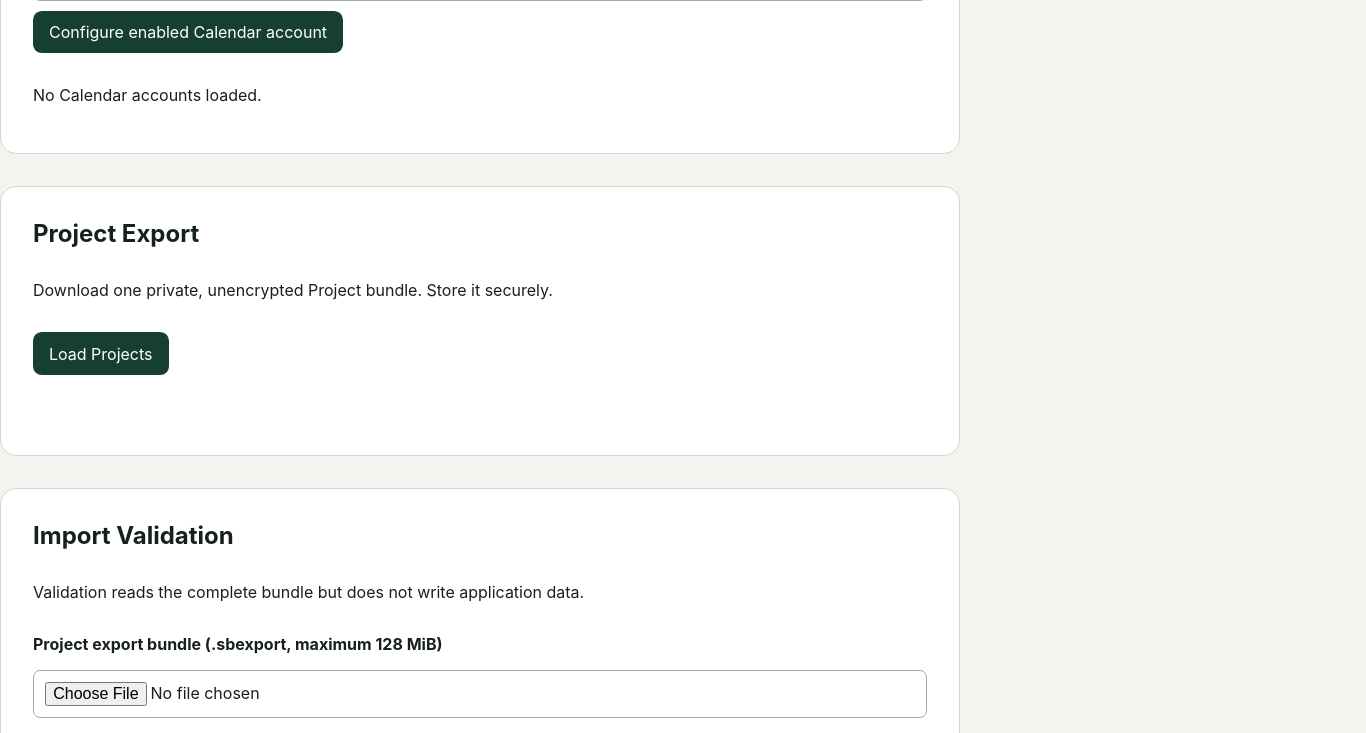
Test: settings operations dashboard › loads a Project page and exports only after an explicit action with safe URL cleanup
(page scrolled)
Click the button "Load Projects".
click(101, 354)  # box [33,332,168,375]
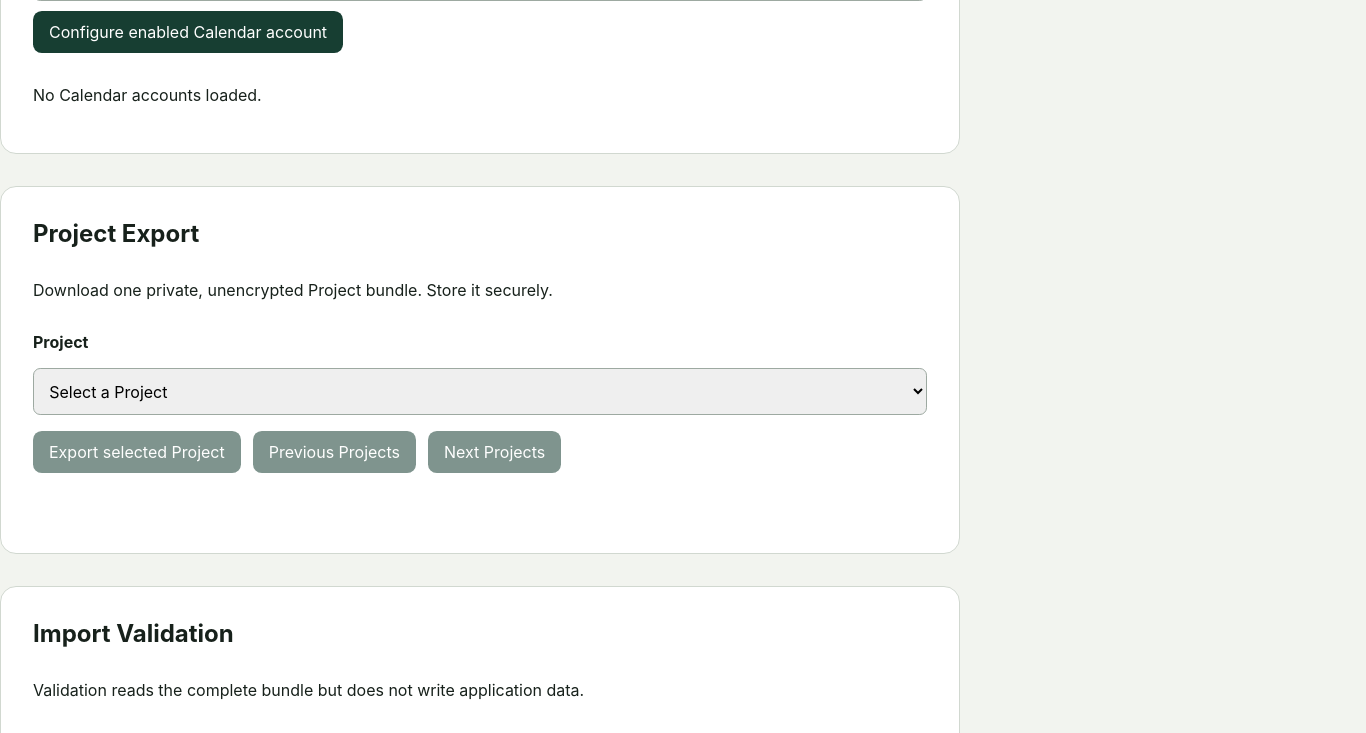
Select "Safe Project" in the dropdown labelled "Project" at (480, 392), box [33,368,927,415]
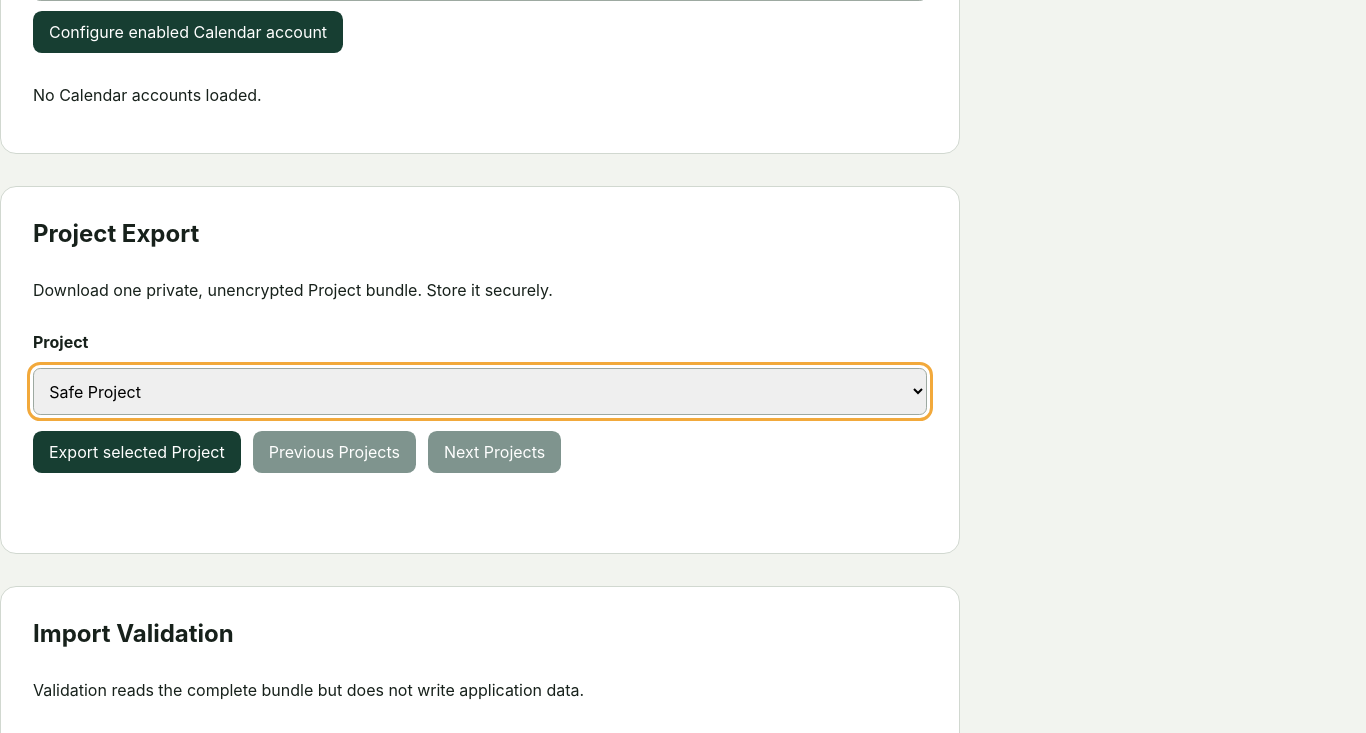
Click the button "Export selected Project".
click(137, 452)  # box [33,431,241,473]
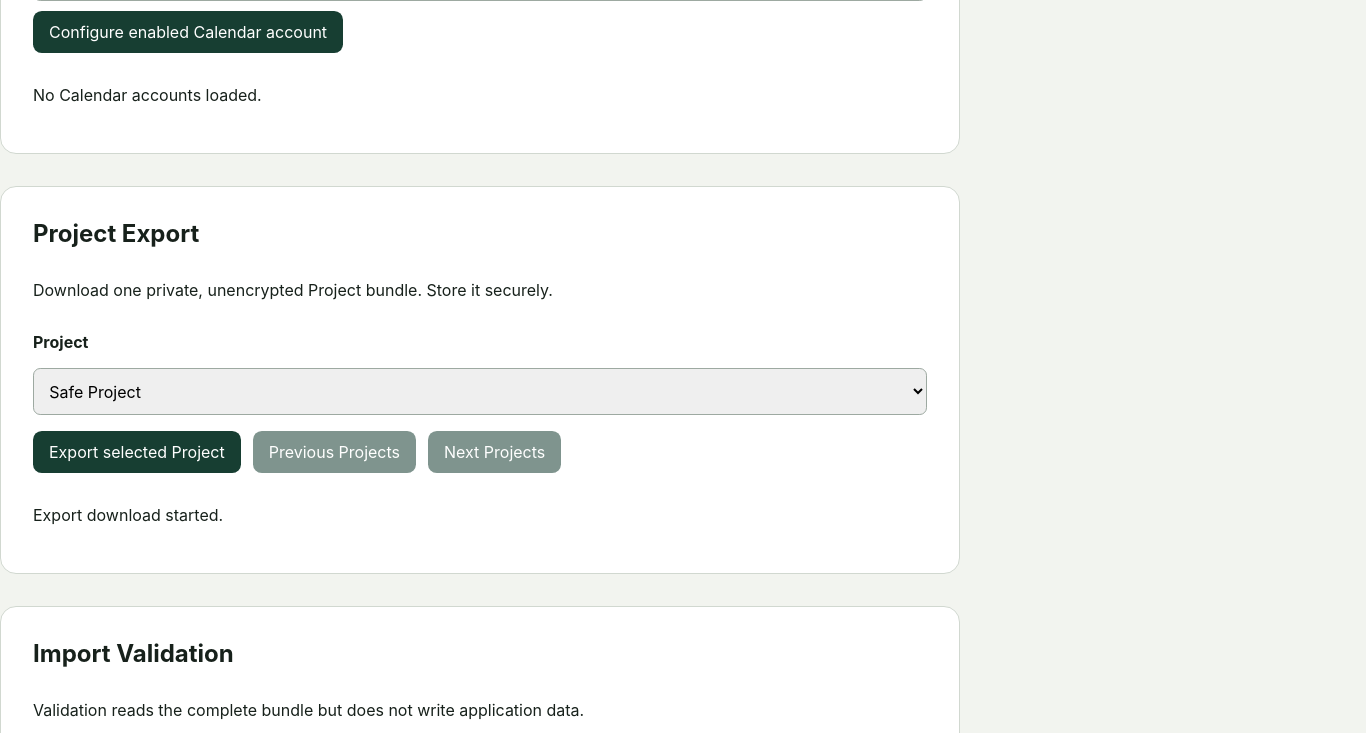
Check: the text "Export download started." is shown, box [33,505,223,525]
